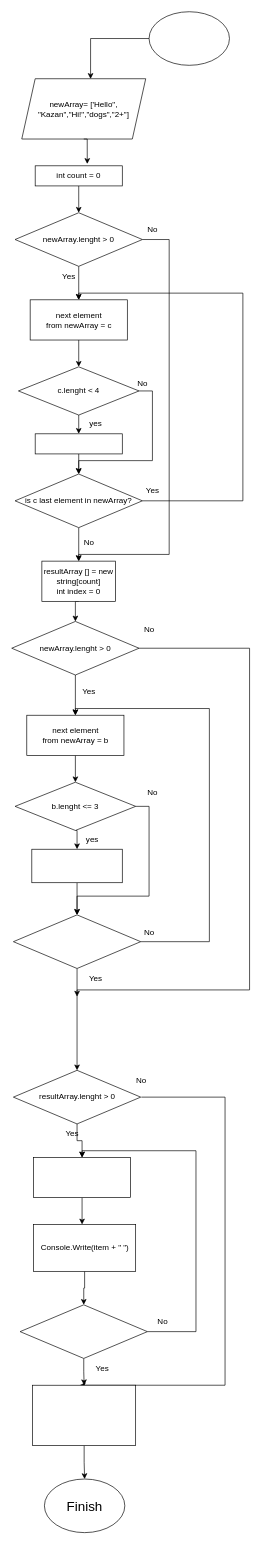
Some shapes in this 267 by 1544 pixel diagram are drawn without their labels. Each missing label, with the centre of its shape:
"count ++" goes at (x=78, y=443).
"is b last element in newArray?" goes at (x=77, y=941).
"is item last element in resultArray?" goes at (x=83, y=1331).
"next element from newArray = item" goes at (x=82, y=1177).
"resultArray [index] = b index ++" goes at (x=76, y=866).
"Sistem.Console.WriteLine()" goes at (x=84, y=1415).
"Start" goes at (x=188, y=38).
